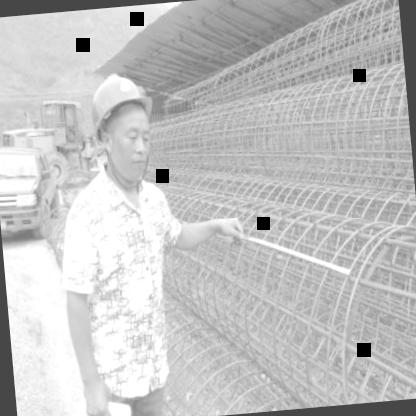helmet: (78, 63, 166, 190)
